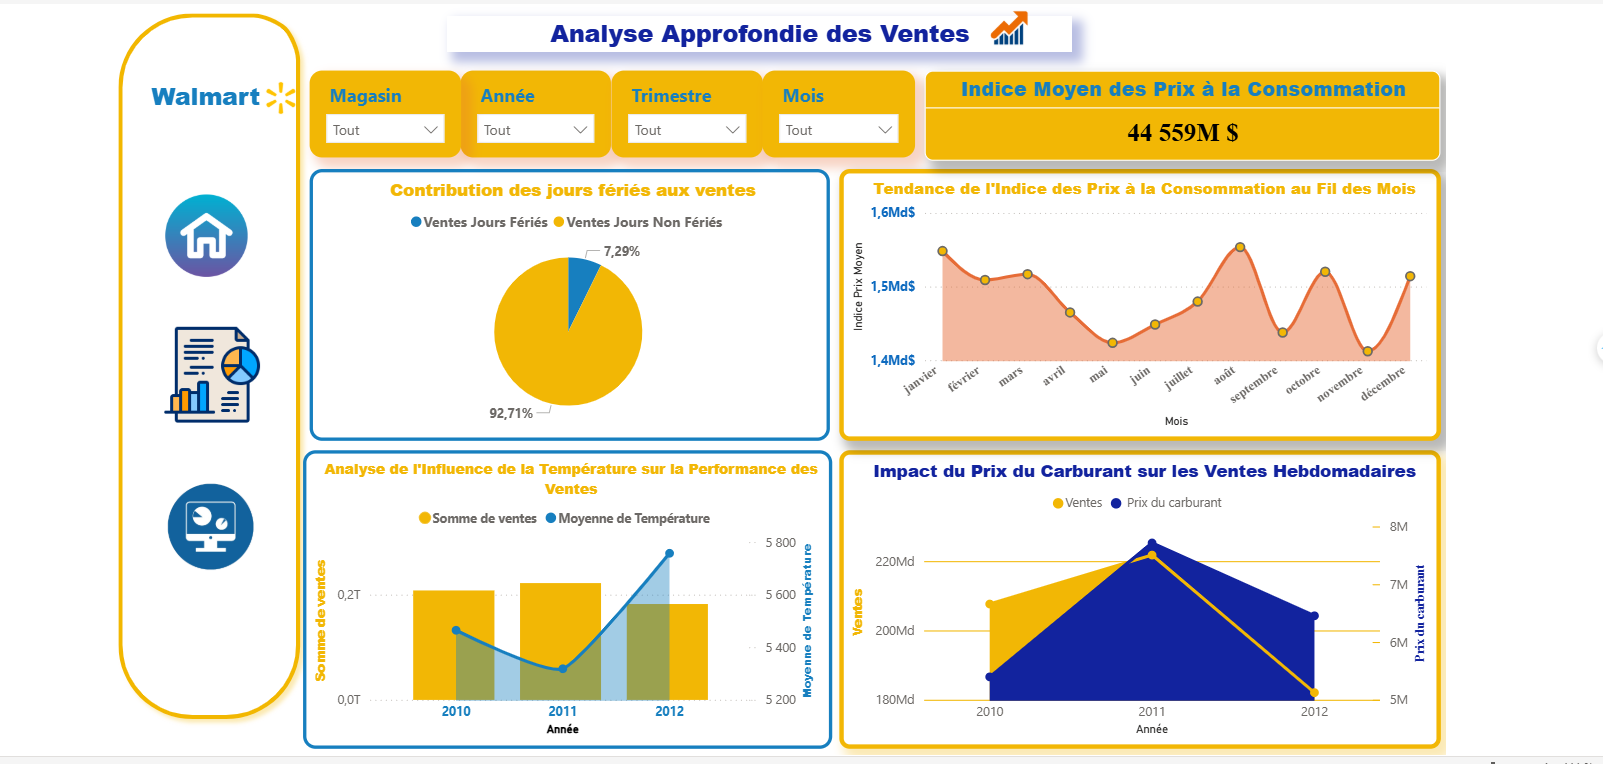

The dashboard page shown, as its layout file describes it:
{"tool":"powerbi","page":{"name":"Analyse Approfondie des Ventes","canvas":[1280,720],"ordinal":1},"visuals":[{"type":"slicer","fields":{"Values":["Walmart_Sales.Date.Variation.Hiérarchie de dates.Année"]},"box":[337,64,143.7,83.6],"z":0},{"type":"slicer","fields":{"Values":["Walmart_Sales.Date.Variation.Hiérarchie de dates.Trimestre"]},"box":[480.8,64,145,83.6],"z":1000},{"type":"slicer","fields":{"Values":["Walmart_Sales.Date.Variation.Hiérarchie de dates.Mois"]},"box":[625.8,64,146.3,83.6],"z":2000},{"type":"slicer","title":"Ma","fields":{"Values":["Dimention M.Store"]},"box":[192,64,145,83.6],"z":3000},{"type":"areaChart","title":"Impact du Prix du Carburant sur les Ventes Hebdomadaires","fields":{"Category":["Walmart_Sales.Date.Variation.Hiérarchie de dates.Année","Walmart_Sales.Date.Variation.Hiérarchie de dates.Trimestre","Walmart_Sales.Date.Variation.Hiérarchie de dates.Mois","Walmart_Sales.Date.Variation.Hiérarchie de dates.Jour"],"Y":["Sum(Walmart_Sales.ventes hebdomadaires)"],"Y2":["Sum(Walmart_Sales.Prix du carburant)"]},"box":[698.9,427.2,576.1,286.1],"z":4000},{"type":"pieChart","title":"Contribution des jours fériés aux ventes ","fields":{"Y":["Dimention M.Holiday_Sales","Dimention M.Non_Holiday_Sales"]},"box":[192,158.1,497.7,260],"z":5000},{"type":"areaChart","title":"Tendance de l''Indice des Prix à la Consommation au Fil des Mois","fields":{"Category":["Walmart_Sales.Date.Variation.Hiérarchie de dates.Mois"],"Y":["Dimention M.Average_CPI"]},"box":[698.9,158.1,576.1,260],"z":6000},{"type":"shape","box":[0,0,192,693.7],"z":7000},{"type":"textbox","title":"   Walmart","box":[0,71.6,185.3,77.9],"z":8000},{"type":"image","box":[122.7,46,84.3,88.2],"z":9000},{"type":"image","box":[48.6,176.3,89.4,90.7],"z":10000},{"type":"image","box":[47.3,301.5,102.2,106],"z":11000},{"type":"image","box":[29.4,438.3,135.4,123.9],"z":12000},{"type":"lineClusteredColumnComboChart","title":"Analyse de l''Influence de la Température sur la Performance des Ventes","fields":{"Category":["Walmart_Sales.Date.Variation.Hiérarchie de dates.Année"],"Y":["Sum(Walmart_Sales.ventes hebdomadaires)"],"Y2":["Avg(Walmart_Sales.Température)"]},"box":[185.5,427.2,506.9,286.1],"z":13000},{"type":"card","title":"Indice Moyen des Prix à la Consommation","fields":{"Values":["Dimention M.Ventes_Jours_Fériés"]},"box":[781.2,64,493.8,86.2],"z":14000},{"type":"textbox","title":"Analyse Approfondie des Ventes","box":[324,11.8,598.3,34],"z":15000},{"type":"image","box":[838.7,0,47,45.7],"z":16000}]}

Visuals, with their boxes in screenshot pixels (x1, y1, x2, y2):
slicer - Walmart_Sales.Date.Variation.Hiérarchie de dates.Année: left=457, top=67, right=607, bottom=154
slicer - Walmart_Sales.Date.Variation.Hiérarchie de dates.Trimestre: left=607, top=67, right=759, bottom=154
slicer - Walmart_Sales.Date.Variation.Hiérarchie de dates.Mois: left=759, top=67, right=912, bottom=154
"Ma" slicer: left=305, top=67, right=457, bottom=154
"Impact du Prix du Carburant sur les Ventes Hebdomadaires" areaChart: left=836, top=447, right=1438, bottom=746
"Contribution des jours fériés aux ventes " pieChart: left=305, top=165, right=826, bottom=437
"Tendance de l''Indice des Prix à la Consommation au Fil des Mois" areaChart: left=836, top=165, right=1438, bottom=437
shape: left=104, top=0, right=305, bottom=726
"   Walmart" textbox: left=104, top=75, right=298, bottom=156
image: left=233, top=48, right=321, bottom=140
image: left=155, top=184, right=249, bottom=279
image: left=154, top=315, right=261, bottom=426
image: left=135, top=459, right=277, bottom=588
"Analyse de l''Influence de la Température sur la Performance des Ventes" lineClusteredColumnComboChart: left=298, top=447, right=829, bottom=746
"Indice Moyen des Prix à la Consommation" card: left=922, top=67, right=1438, bottom=157
"Analyse Approfondie des Ventes" textbox: left=443, top=12, right=1069, bottom=48
image: left=982, top=0, right=1031, bottom=48
